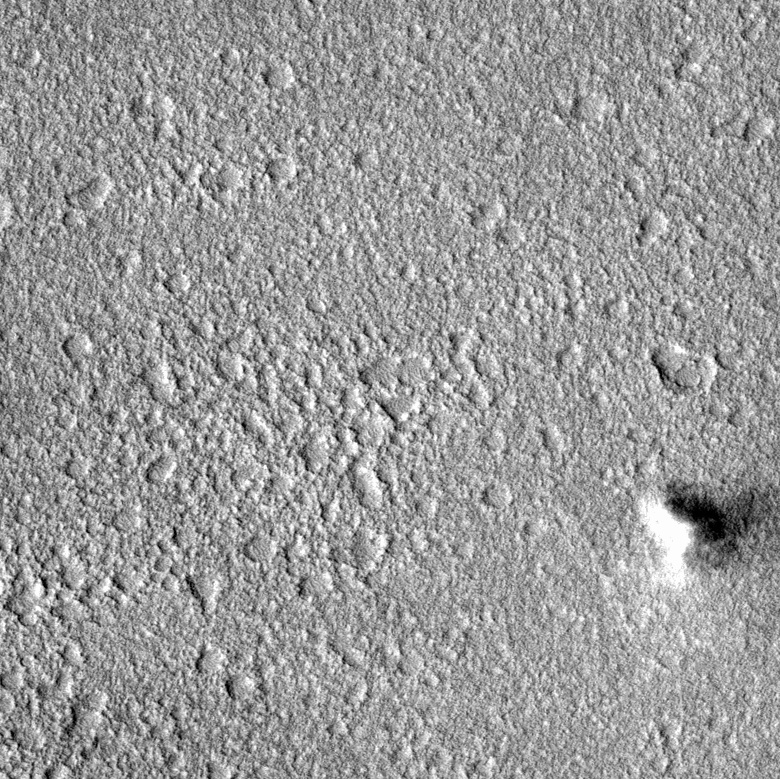dust_devil: (635, 477, 762, 588)
